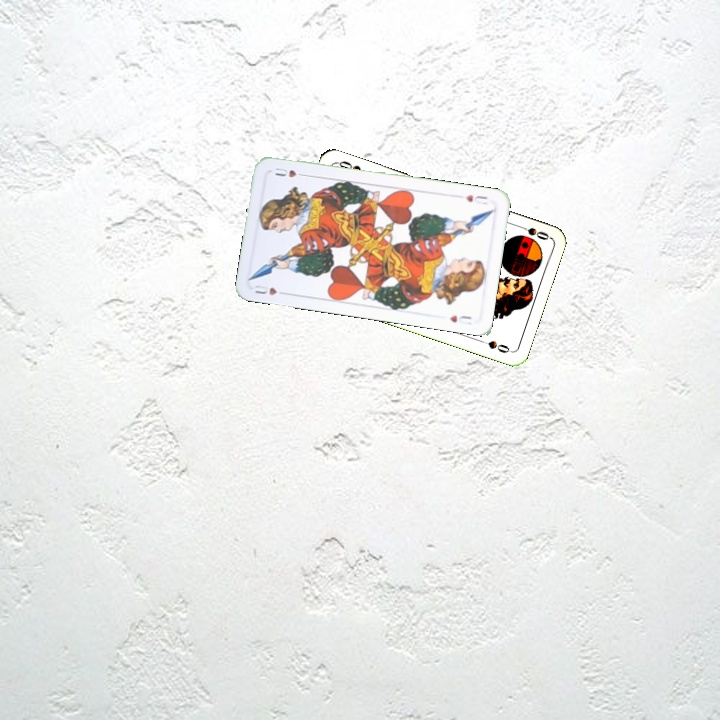HU: (250, 281, 290, 298), (461, 191, 490, 207)
SO: (512, 221, 552, 243)
